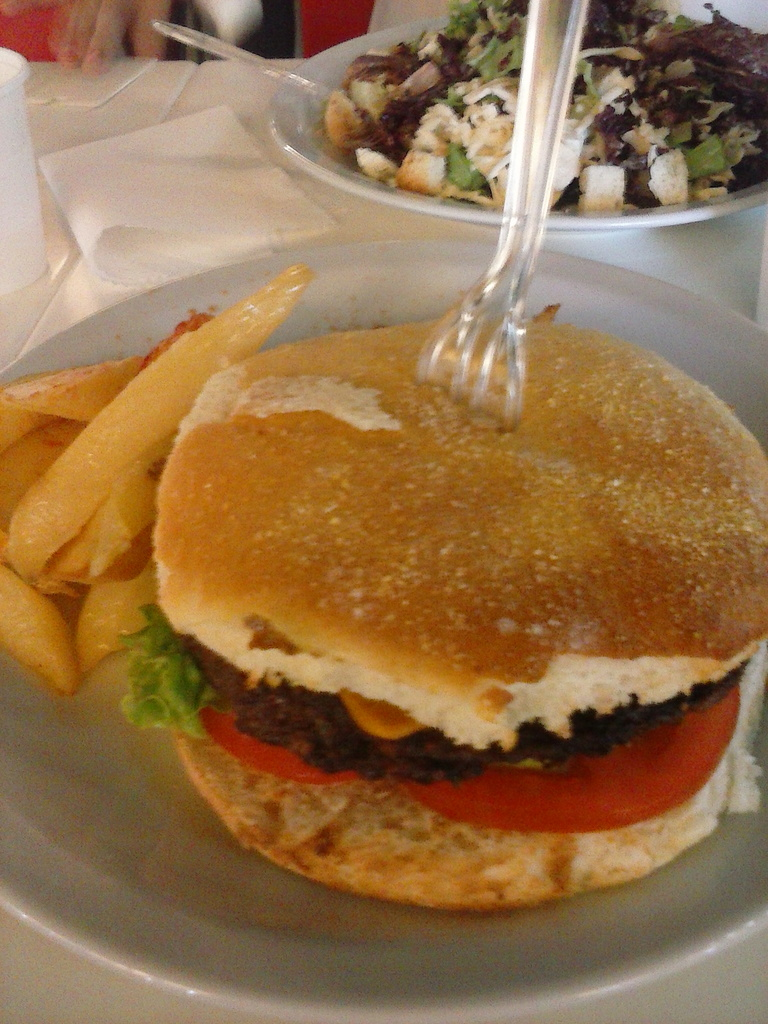French fries: (0, 254, 320, 693)
